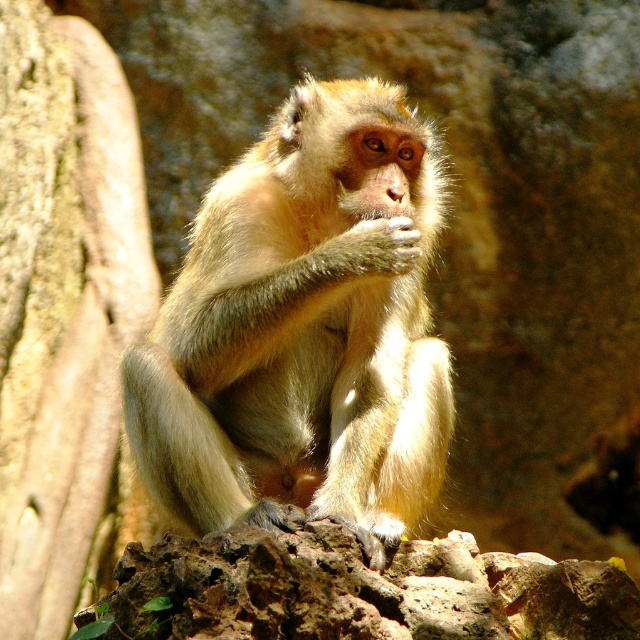Monkey: (107, 62, 478, 572)
